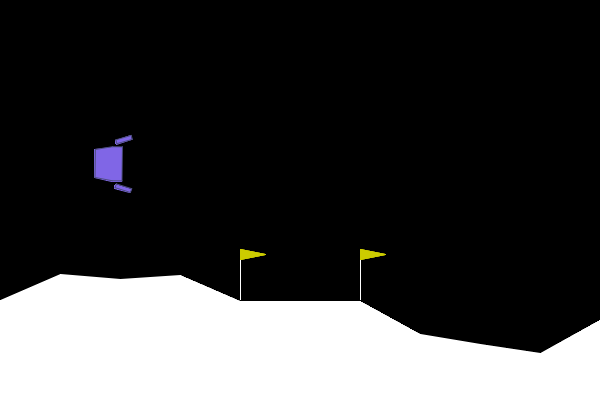lander: (92, 134, 133, 194)
